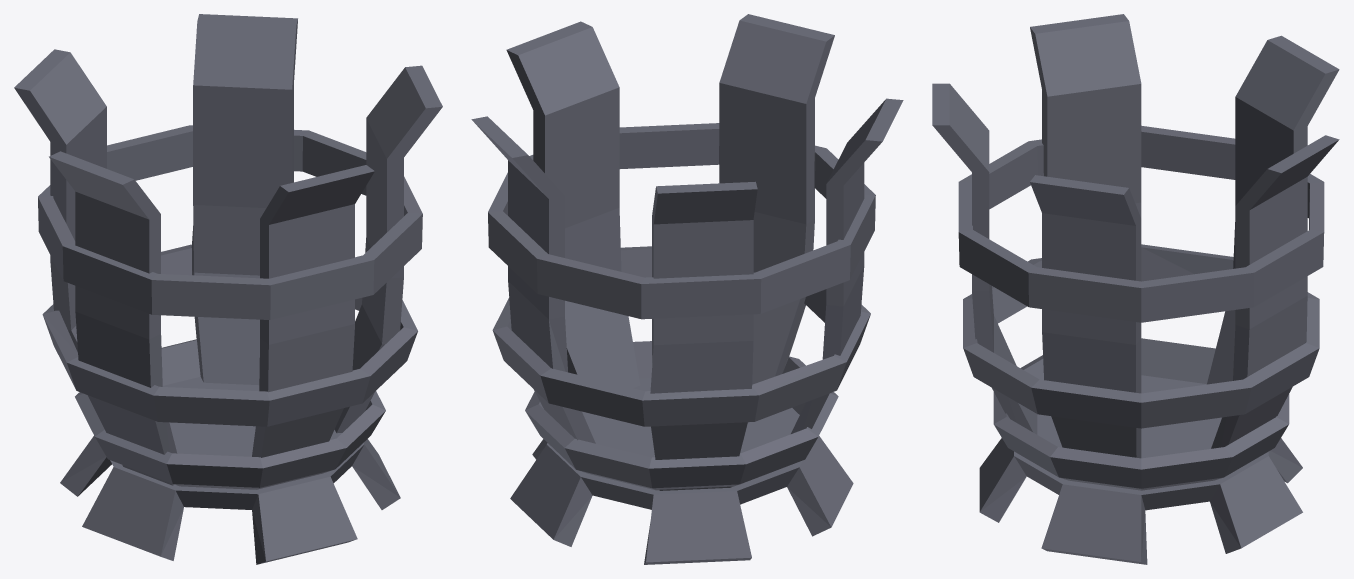
File: _BRAZIER.fbx
The picture shows the model from 3 angles, left to right: view 1: azimuth 30°, elevation 25°; view 2: azimuth 150°, elevation 25°; view 3: azimuth 270°, elevation 25°; orthographic projection.
Visible parts, largest first — view 1: BRAZIER; view 2: BRAZIER; view 3: BRAZIER.
Boxes of the visible parts, x1=… form: BRAZIER: x1=14, y1=14, x2=442, y2=564; BRAZIER: x1=471, y1=14, x2=903, y2=564; BRAZIER: x1=932, y1=14, x2=1339, y2=564.
Size of the model in its own units: 108 by 110 by 103.
